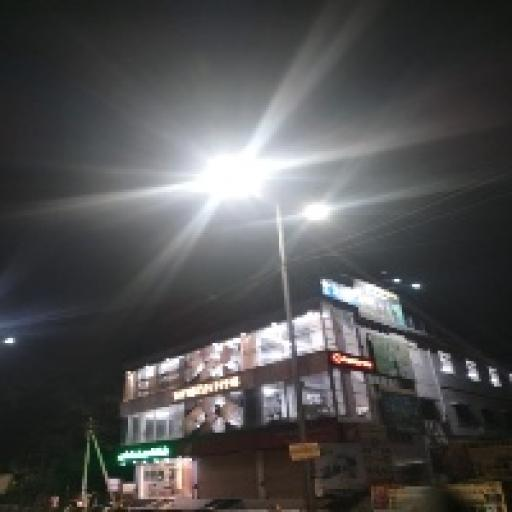Working: (296, 195, 339, 229)
